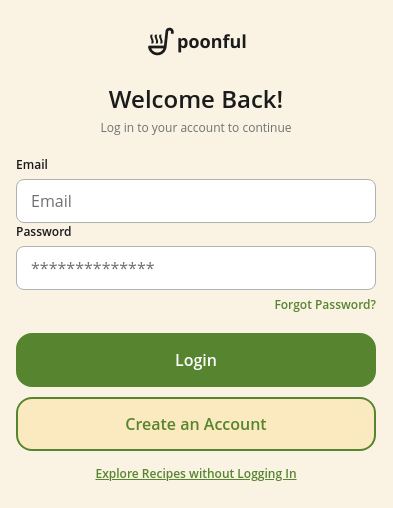
it: LoginPage › failed login › displays an error after invalid login
Type "wrong@example.com" into the field labelled "Email". click: point(196, 200)
box: [16, 178, 376, 222]
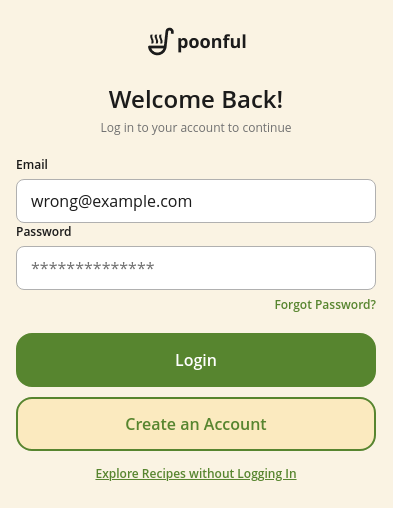
Type "wrongpass" into the password field labelled "Password". click: point(196, 268)
box: [16, 246, 376, 290]
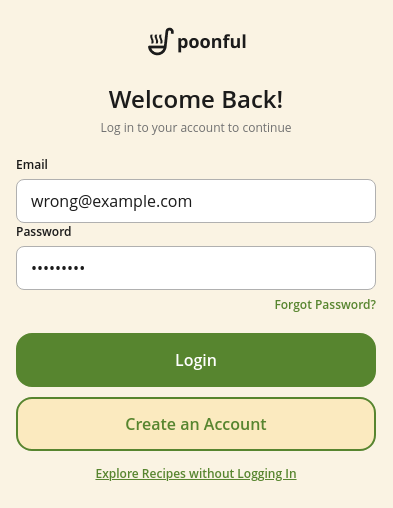
Click the button "Login". click: point(196, 360)
box: [16, 332, 376, 386]
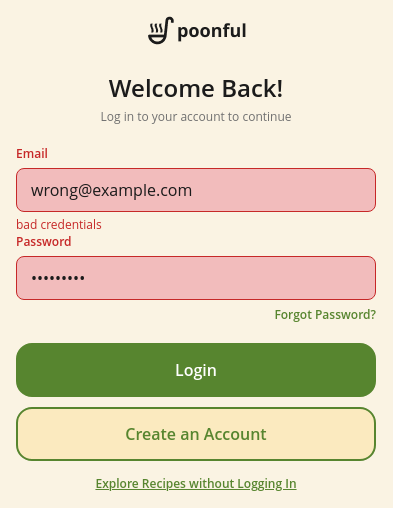
expect the message reads "bad credentials": met, box [16, 216, 102, 233]
